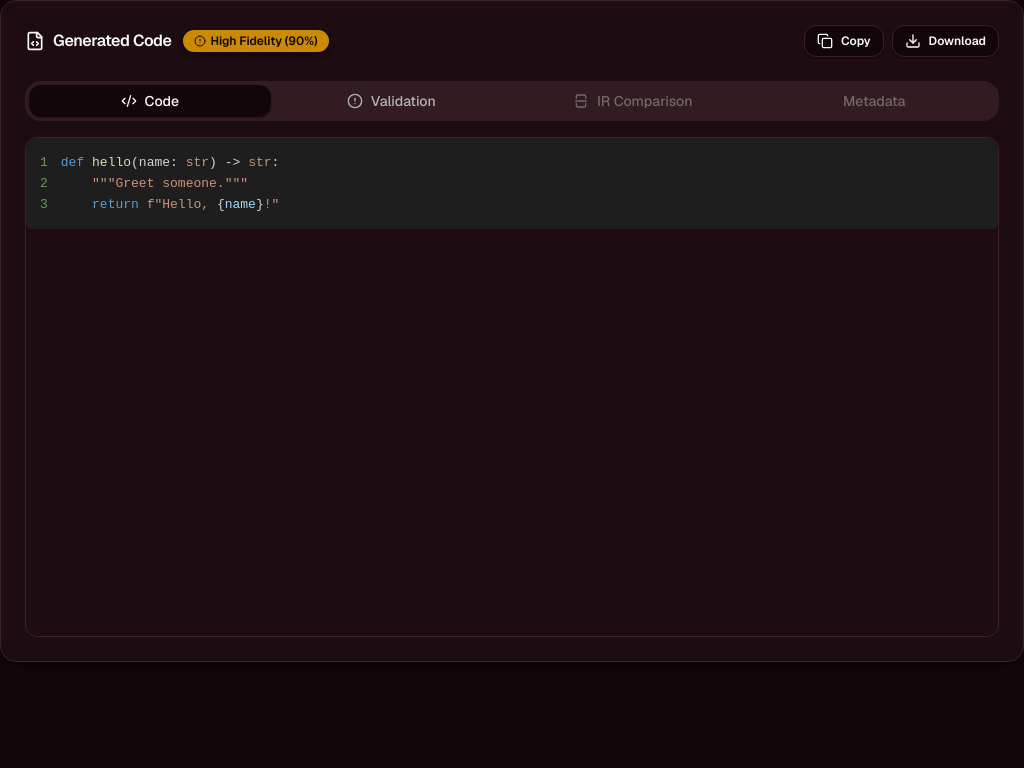
Test: CodePreview › displays multiple warnings in validation tab
This screenshot has width=1024, height=768.
Click the tab "Validation" at (391, 101), box [270,85,512,117]
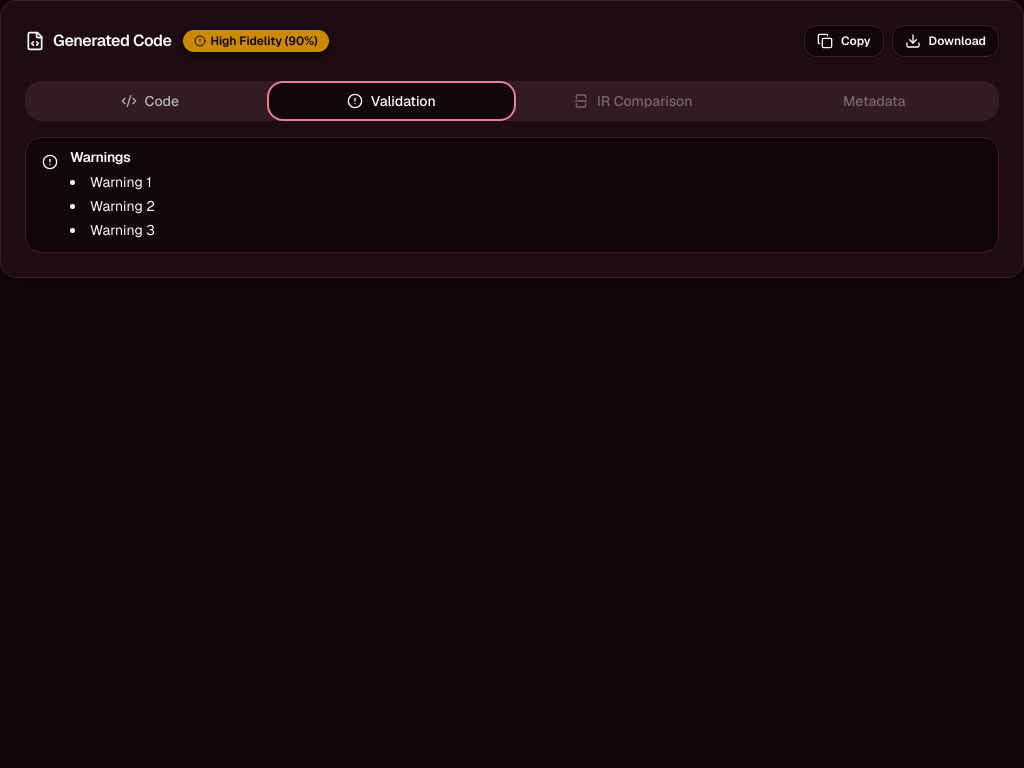
Expected: the list item "Warning 1" is shown, [90,173,152,191]
Expected: the list item "Warning 2" is shown, [90,197,155,215]
Expected: the list item "Warning 3" is shown, [90,221,155,239]
